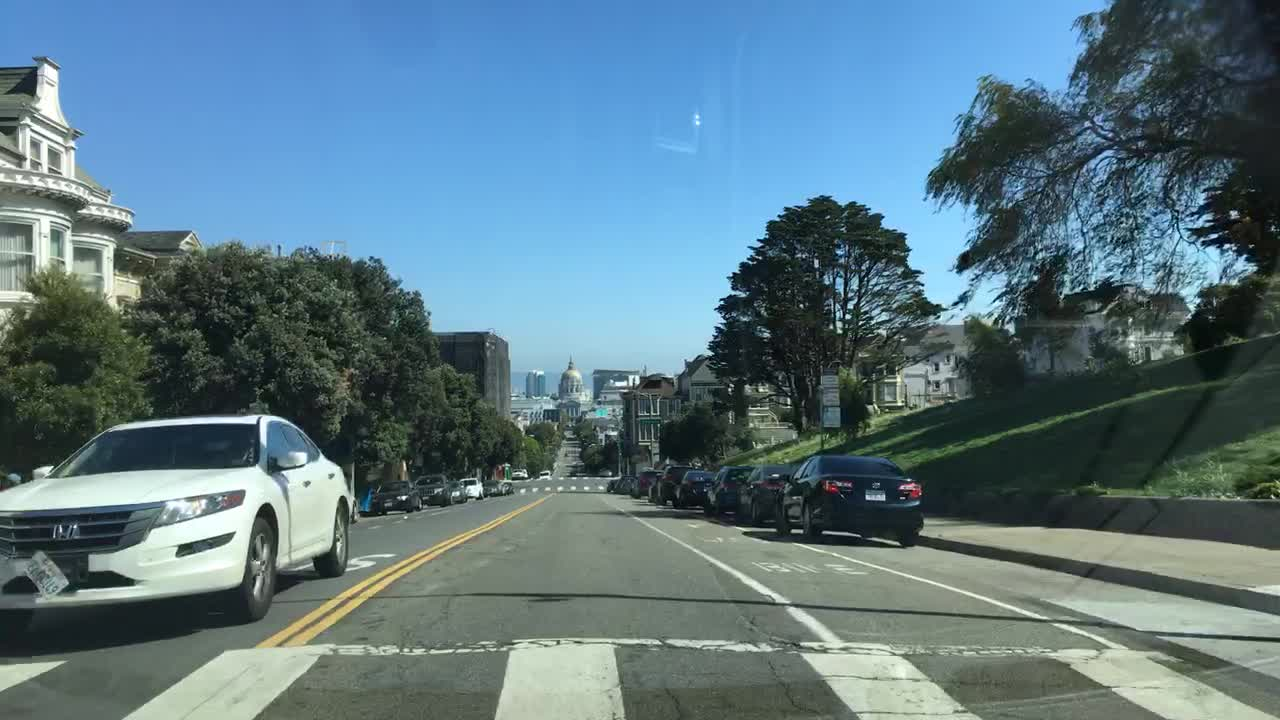car: (1, 413, 354, 645), (772, 458, 925, 551), (733, 461, 802, 530), (701, 462, 760, 521), (670, 470, 718, 513), (369, 479, 418, 515), (655, 464, 694, 504), (411, 474, 448, 506), (630, 467, 659, 498), (604, 471, 630, 497), (442, 479, 466, 506), (645, 470, 664, 503), (460, 476, 483, 501), (618, 473, 639, 497), (481, 477, 501, 494), (496, 479, 513, 494), (511, 466, 527, 479), (539, 467, 551, 481), (574, 461, 586, 473)
traffic sign: (824, 407, 840, 428), (822, 389, 839, 406), (822, 368, 837, 385), (638, 418, 661, 424)
